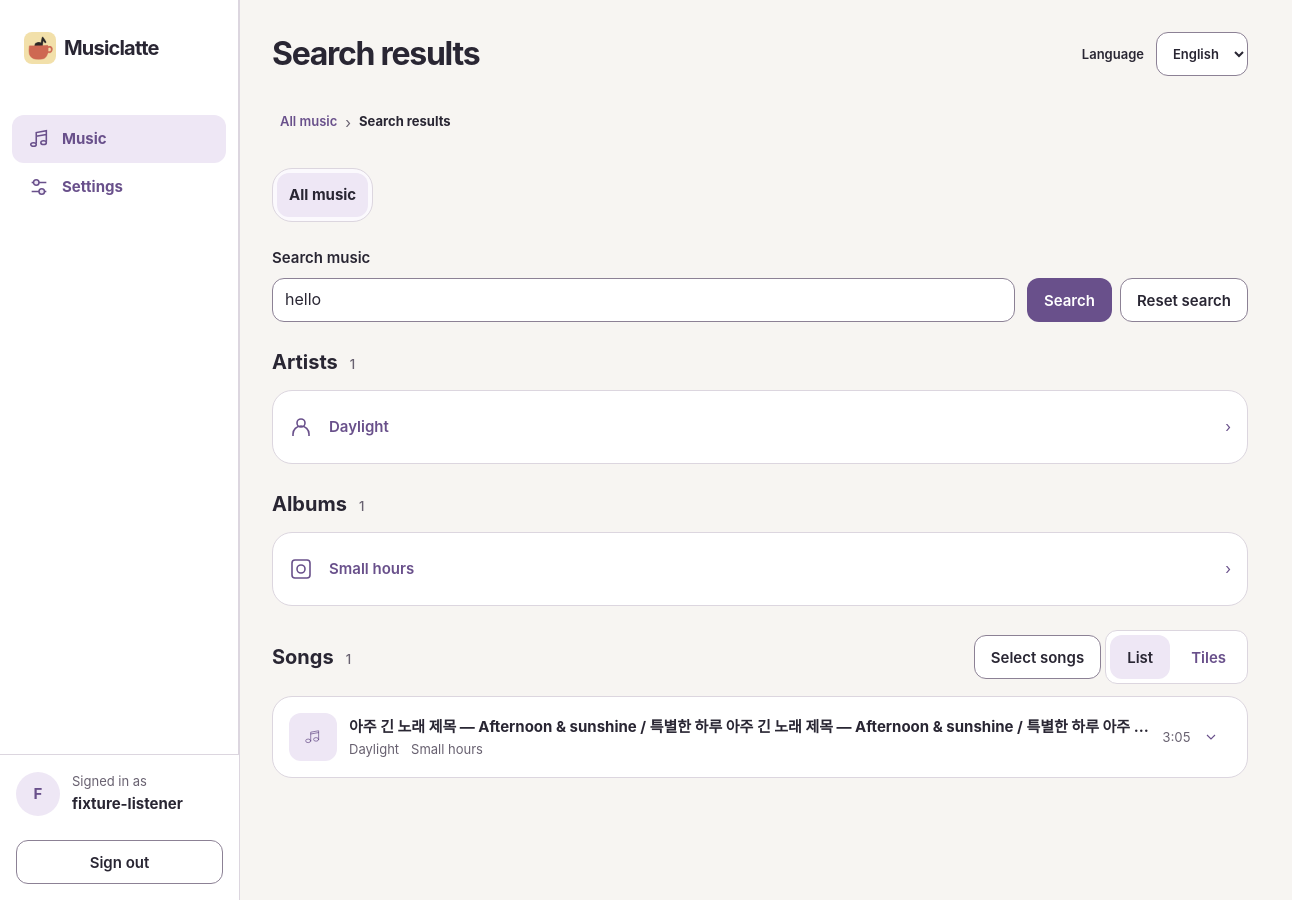
it: library UI › should keep long original content and query while changing language
Select "한국어" in the dropdown labelled "Language". click: (1202, 54)
box: [1156,32,1248,76]
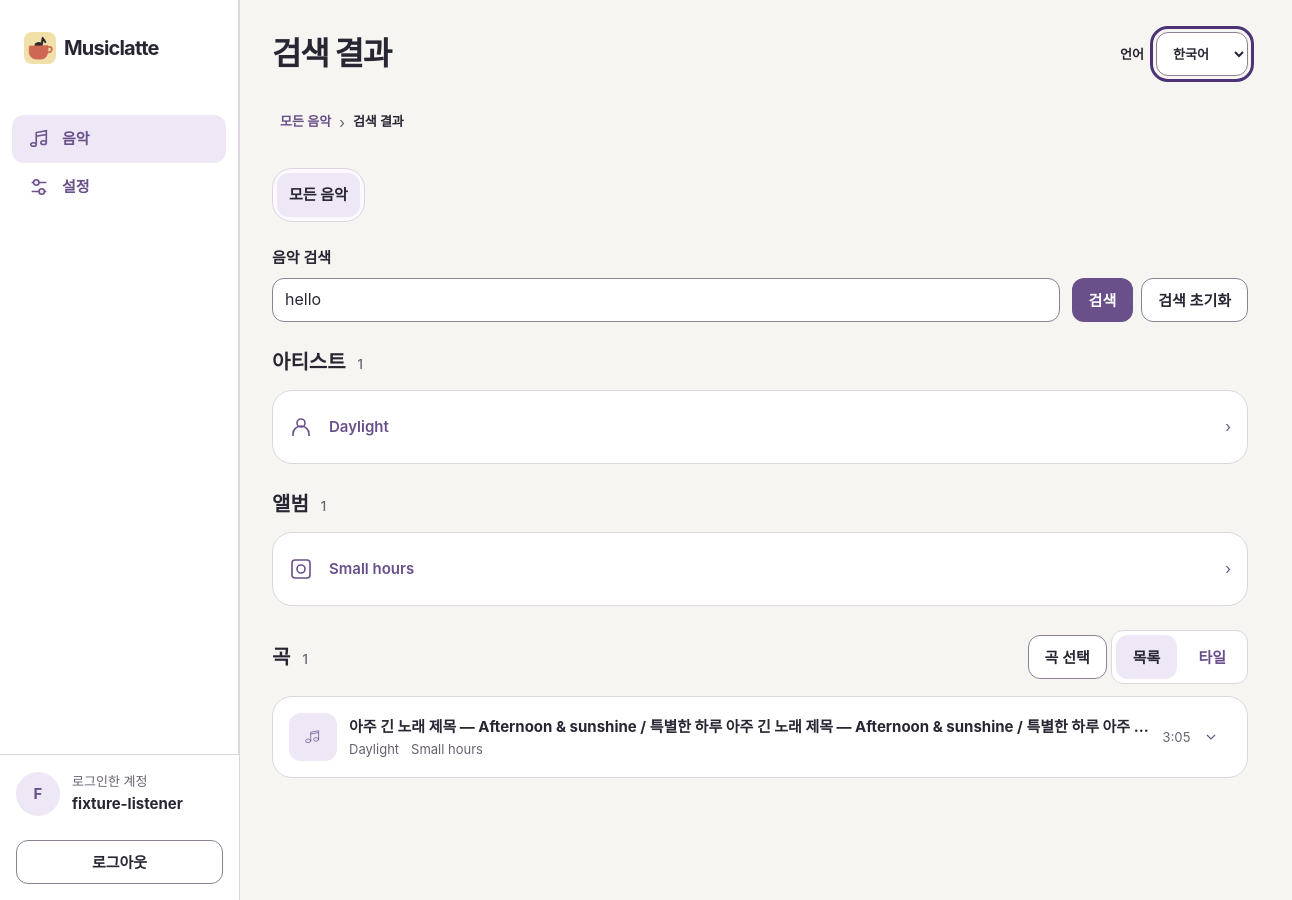
Expected: the search field labelled "음악 검색" is shown, [272,278,1060,322]
Expected: the button "검색 초기화" is shown, [1141,278,1248,322]
